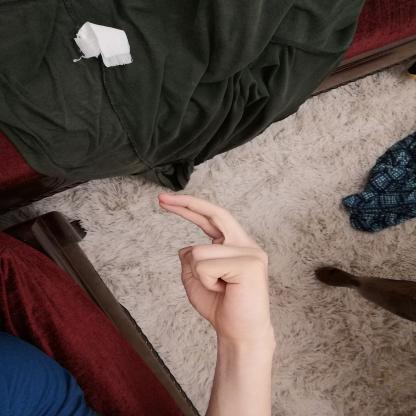ZAY: (143, 184, 281, 346)
